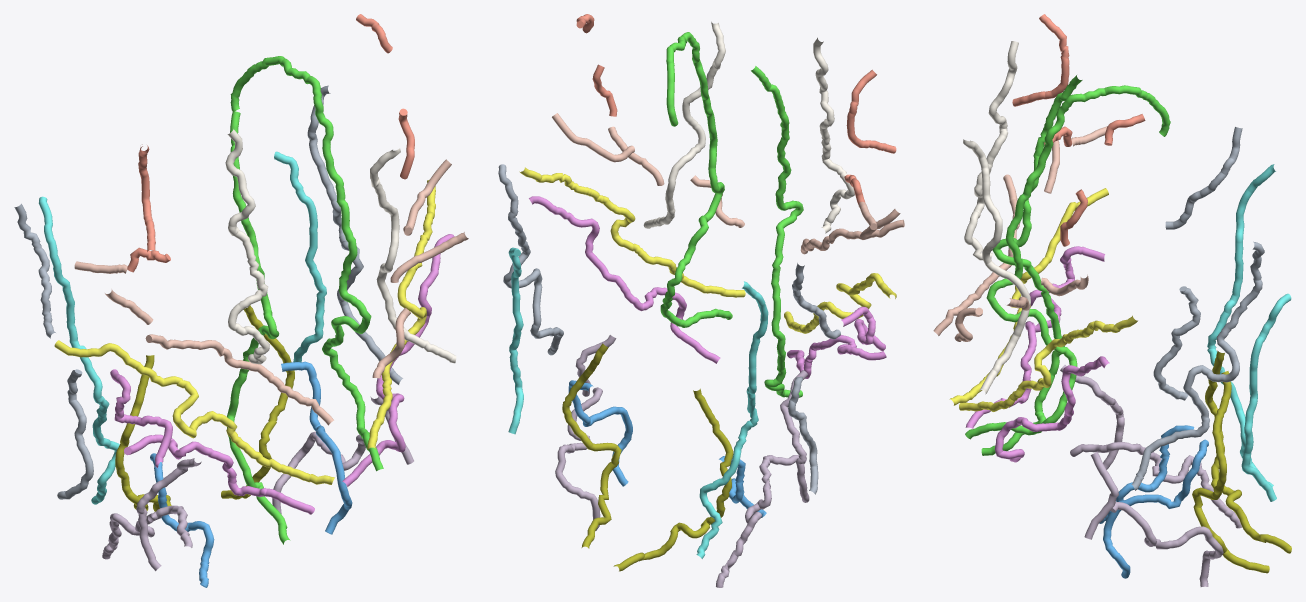
The model's file is sulci.glb.
3 views of the same model, side by side, from view 1: azimuth 30°, elevation 25°; view 2: azimuth 150°, elevation 25°; view 3: azimuth 270°, elevation 25° (orthographic). The views are drawn at different scales.
Visible parts, largest first — view 1: spl-5006, spl-5003, spl-5015, spl-5005, spl-5007, spl-5017, spl-5019, spl-5011, spl-5021, spl-5020, spl-5018, spl-5022 (+10 smaller); view 2: spl-5006, spl-5005, spl-5007, spl-5011, spl-5016, spl-5004, spl-5002, spl-5022, spl-5015, spl-5001, spl-5020, spl-5019 (+10 smaller); view 3: spl-5006, spl-5005, spl-5022, spl-5011, spl-5012, spl-5021, spl-5020, spl-5007, spl-5004, spl-5002, spl-5019, spl-5008 (+10 smaller).
Boxes of the visible parts, box(x1,y1,x2,y2) form: spl-5006: box(230, 56, 383, 471); spl-5003: box(54, 340, 334, 484); spl-5015: box(110, 369, 314, 514); spl-5005: box(227, 111, 290, 544); spl-5007: box(38, 196, 119, 504); spl-5017: box(74, 261, 333, 425); spl-5019: box(225, 129, 269, 364); spl-5011: box(102, 458, 201, 571); spl-5021: box(14, 203, 93, 499); spl-5020: box(370, 148, 456, 363); spl-5018: box(372, 159, 468, 378); spl-5022: box(307, 85, 402, 384); spl-5006: box(660, 32, 732, 327); spl-5005: box(751, 66, 803, 397); spl-5007: box(696, 281, 768, 558); spl-5011: box(716, 370, 809, 587); spl-5016: box(529, 196, 720, 363); spl-5004: box(519, 167, 745, 297); spl-5002: box(562, 343, 621, 548); spl-5022: box(498, 164, 563, 355); spl-5015: box(787, 306, 886, 378); spl-5001: box(613, 388, 733, 571); spl-5020: box(643, 21, 725, 228); spl-5019: box(813, 37, 854, 233); spl-5006: box(965, 85, 1170, 439); spl-5005: box(981, 75, 1082, 455); spl-5022: box(1131, 241, 1264, 490); spl-5011: box(1060, 365, 1242, 528); spl-5012: box(1084, 451, 1223, 586); spl-5021: box(1153, 127, 1242, 400); spl-5020: box(963, 139, 1030, 394); spl-5007: box(1207, 164, 1275, 486); spl-5004: box(959, 315, 1137, 411); spl-5002: box(1192, 371, 1269, 573); spl-5019: box(964, 41, 1018, 260); spl-5008: box(1241, 293, 1291, 501).
Bounding box in the file's own units: 113 × 144 × 92.05.
